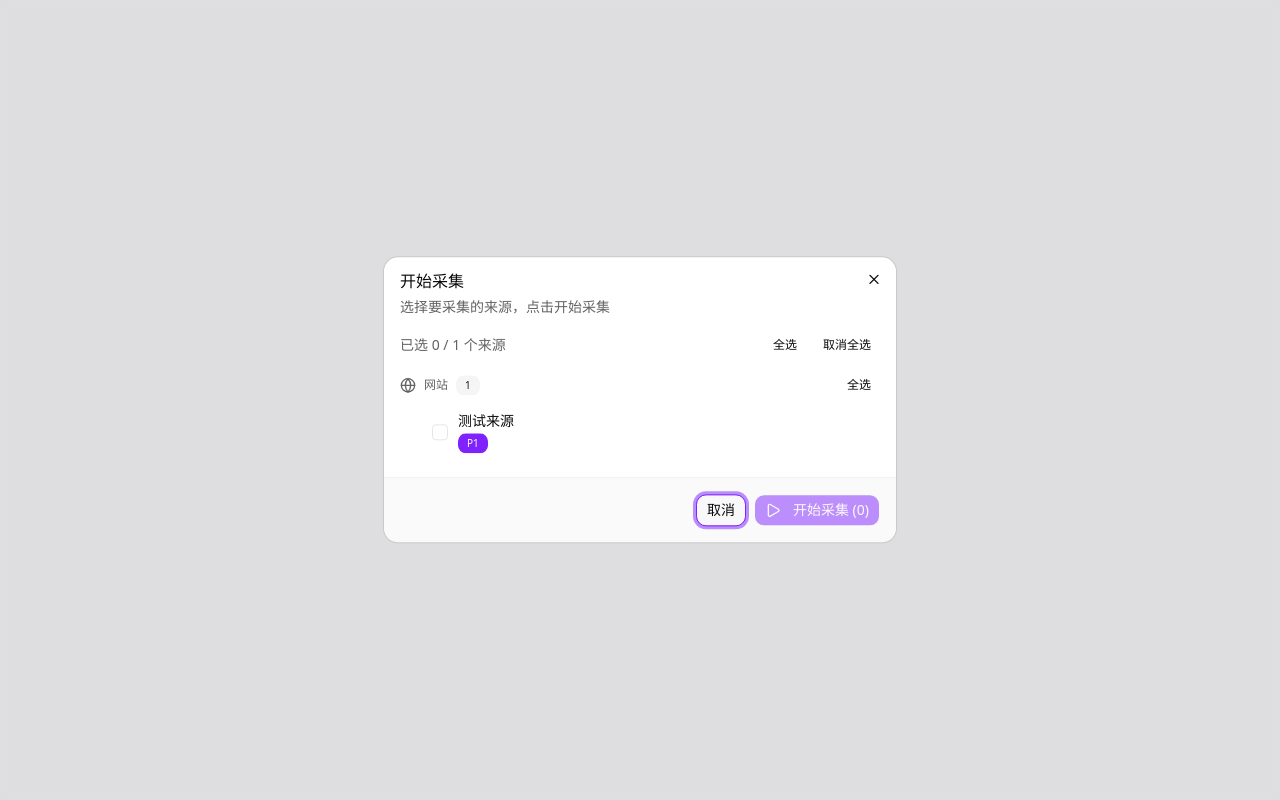
it: CollectDialog › 应该展示跳过数量
Check: the text "测试来源" is shown, box [458,411,514,430]
Click the checkbox.
click(440, 432)  # box [432,424,448,440]
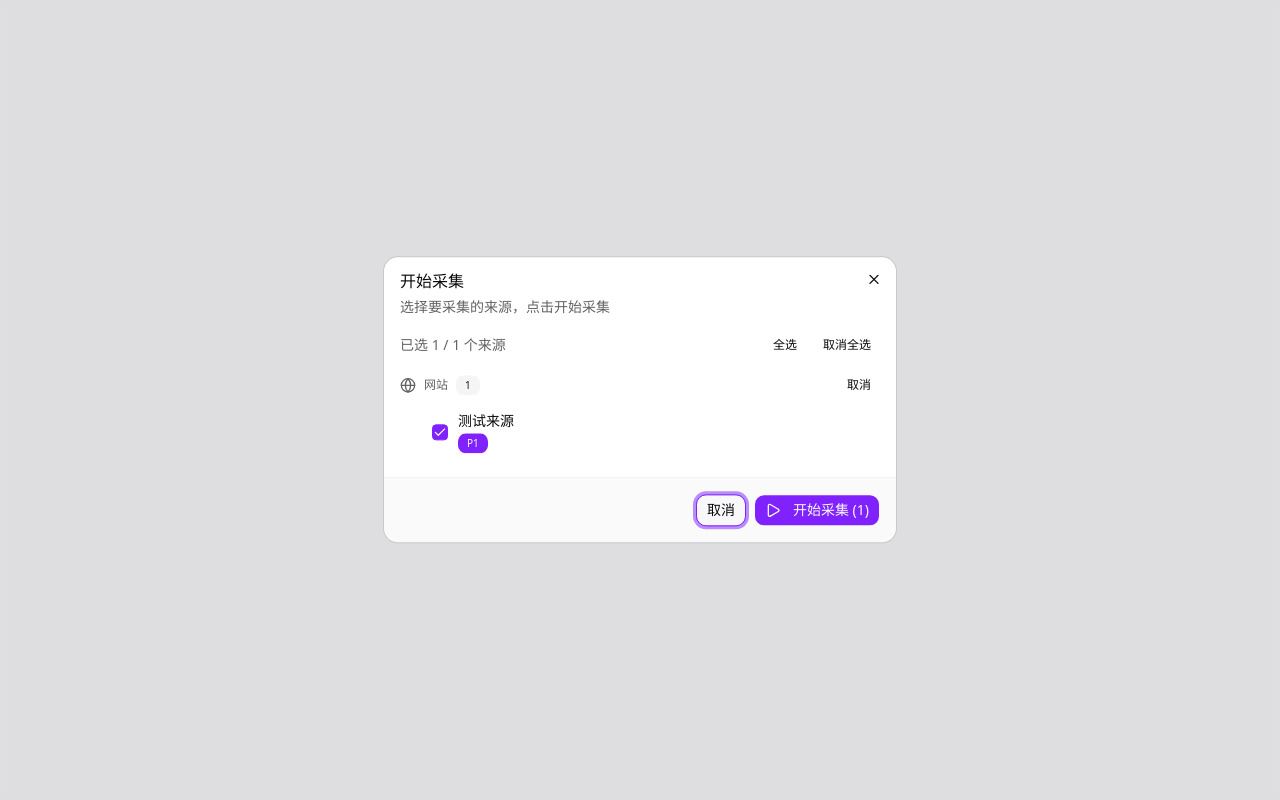
Click the button "开始采集 (1)".
click(817, 511)  # box [754,495,880,527]
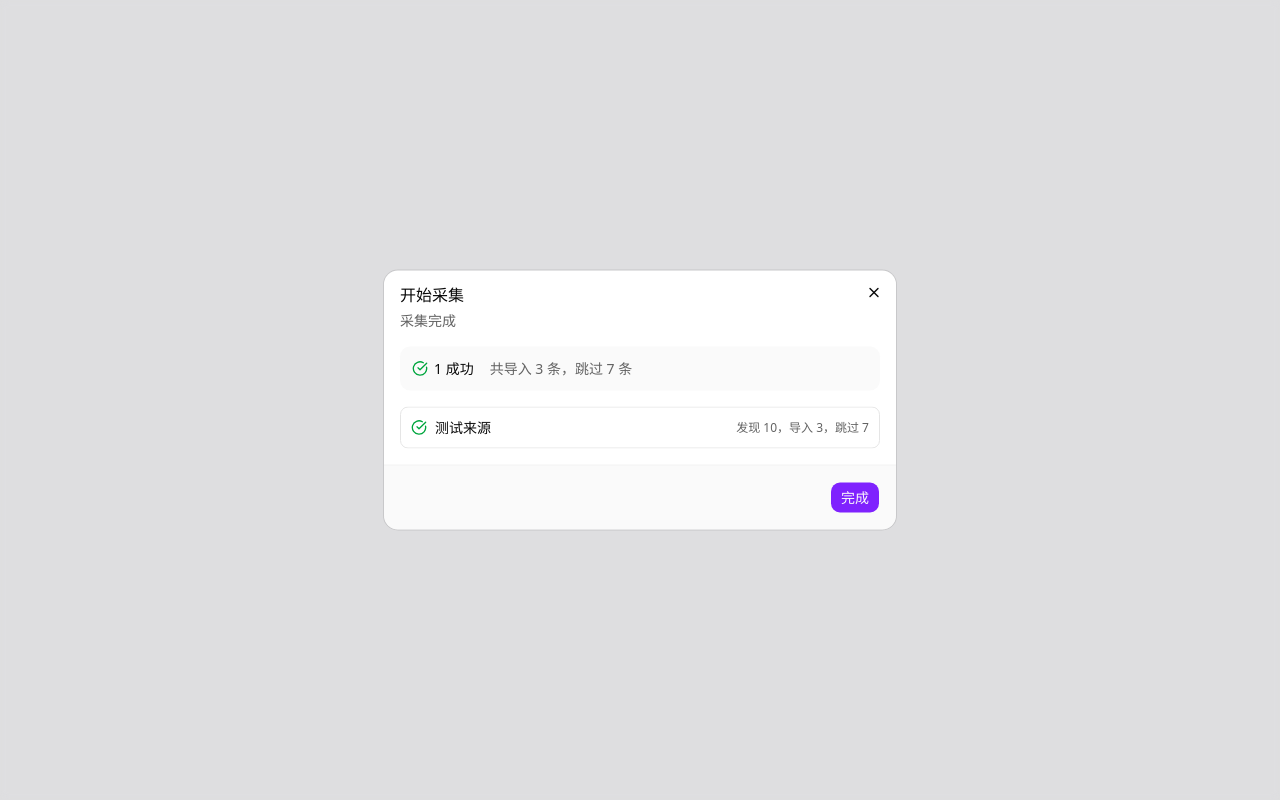
Check: the text "共导入 3 条，跳过 7 条" is shown, box [490,358,632,378]
